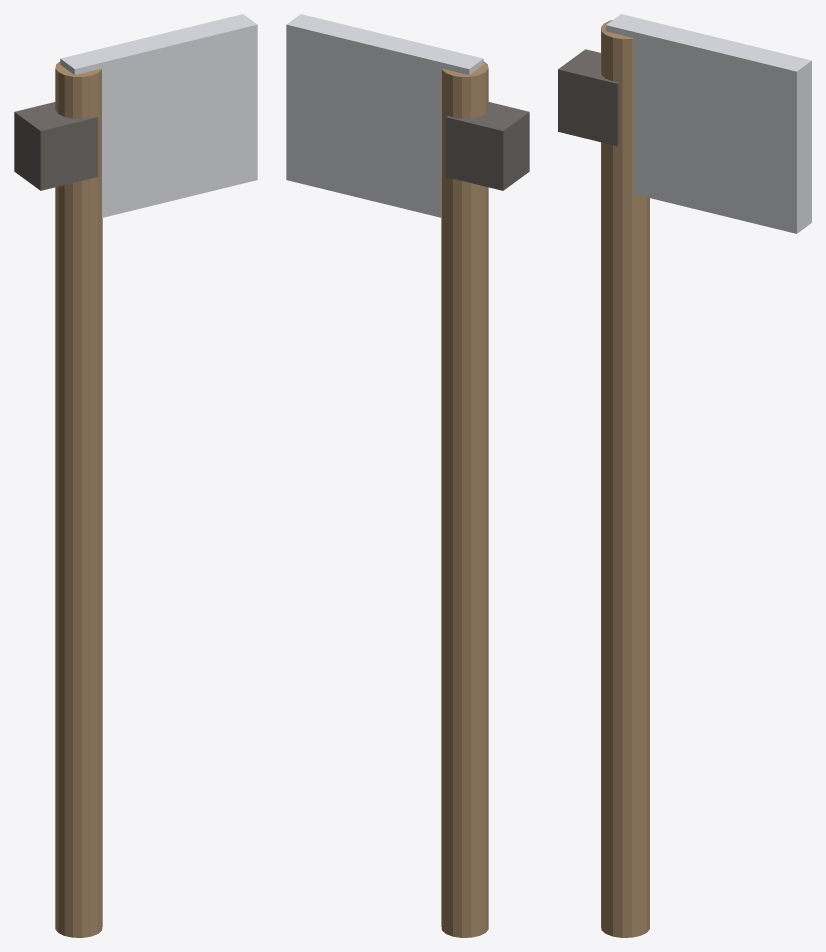
File: axe.glb
3 views of the same model, side by side, from view 1: azimuth 30°, elevation 25°; view 2: azimuth 150°, elevation 25°; view 3: azimuth 330°, elevation 25° (orthographic). The views are drawn at different scales.
Visible parts, largest first — view 1: axe0, axe1, axe2; view 2: axe0, axe1, axe2; view 3: axe0, axe1, axe2.
Boxes of the visible parts, x1,y1,x2,y2 form: axe0: [55, 61, 102, 937]; axe1: [60, 14, 257, 217]; axe2: [14, 102, 97, 190]; axe0: [441, 61, 488, 937]; axe1: [286, 14, 483, 217]; axe2: [446, 102, 529, 190]; axe0: [601, 20, 649, 937]; axe1: [606, 14, 811, 233]; axe2: [558, 49, 619, 146].
Size of the model in its own units: 0.195 by 0.725 by 0.04.
